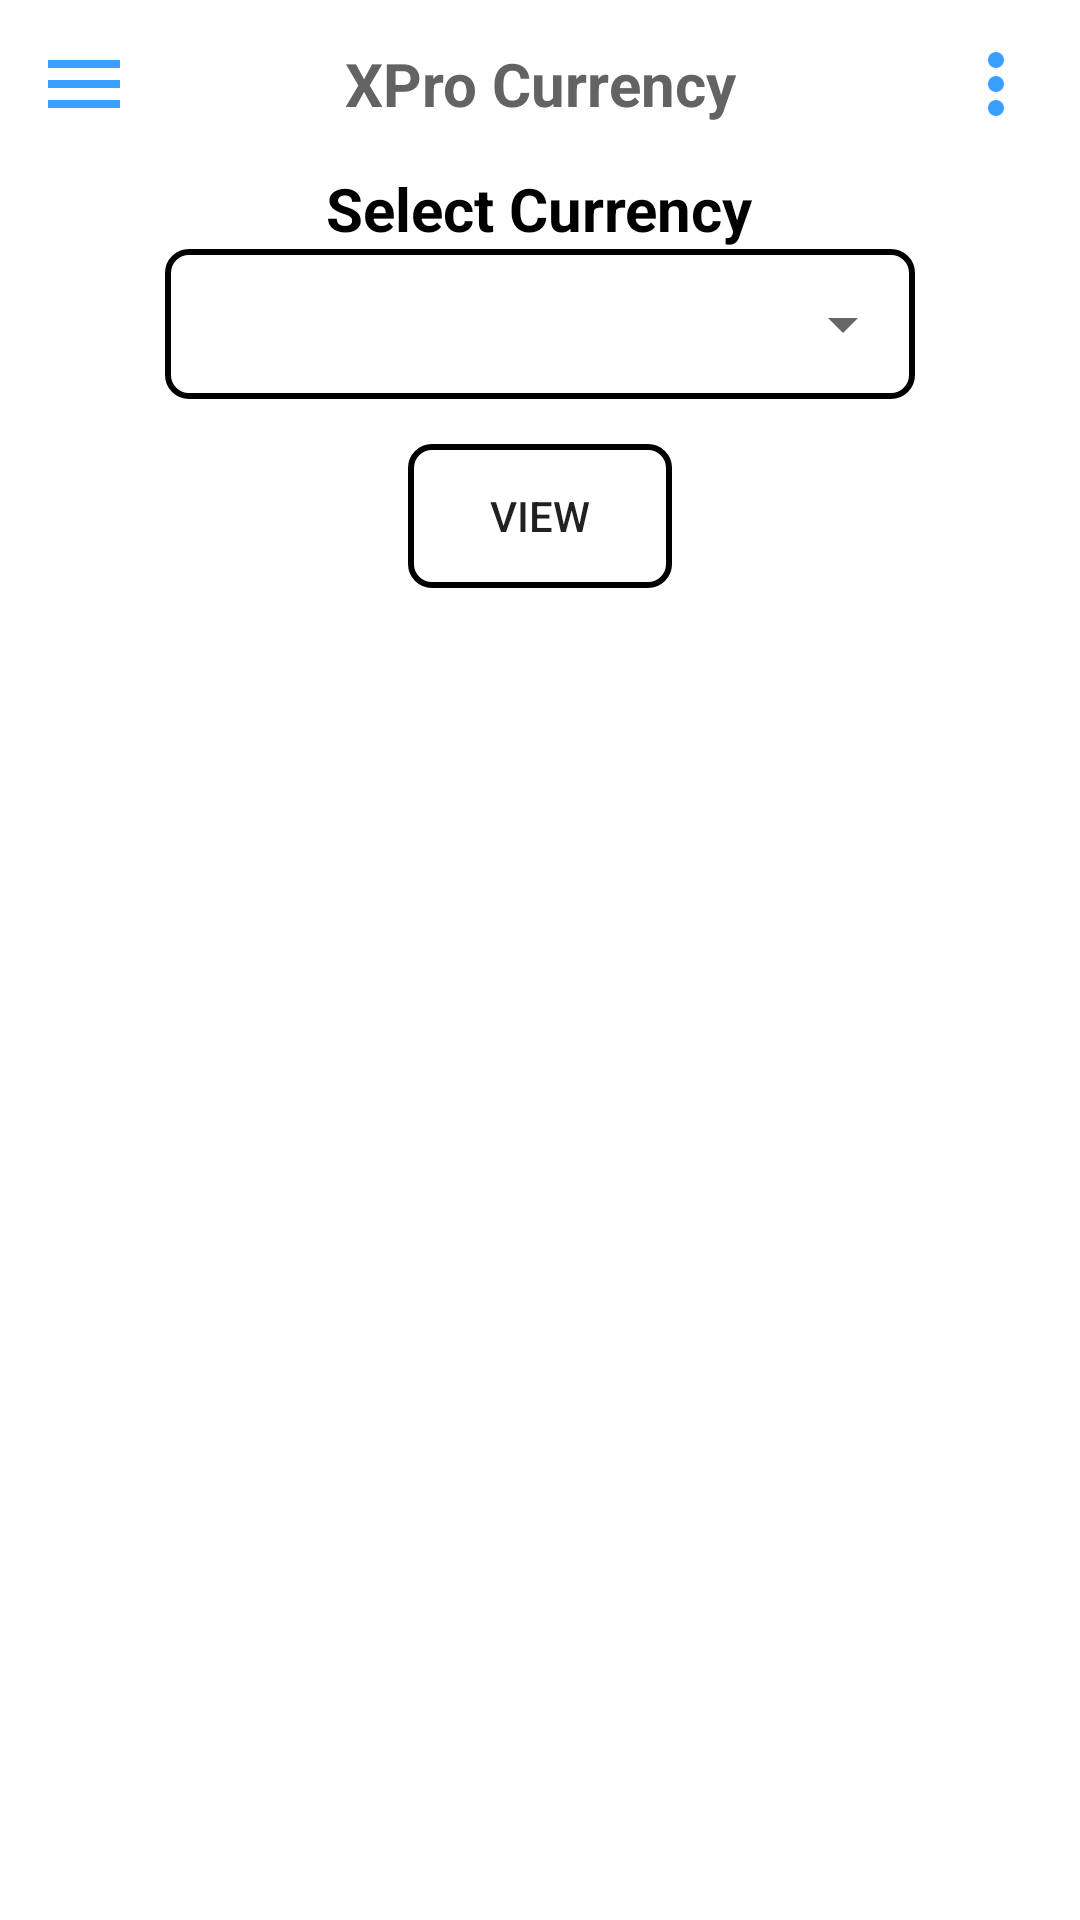

Named icons in this screenshot (1080px×1920px) and their centers, point (x, y):
menu: point (84, 84)
more: point (996, 84)
